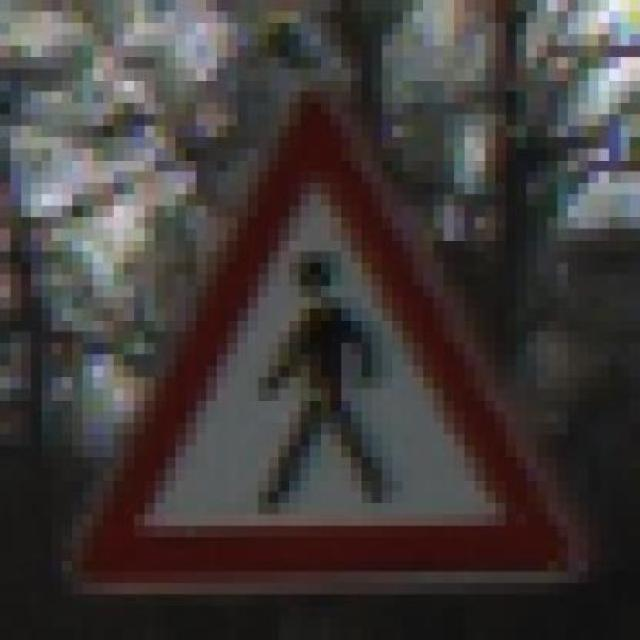Pedestrian Crossing: (62, 79, 588, 595)
